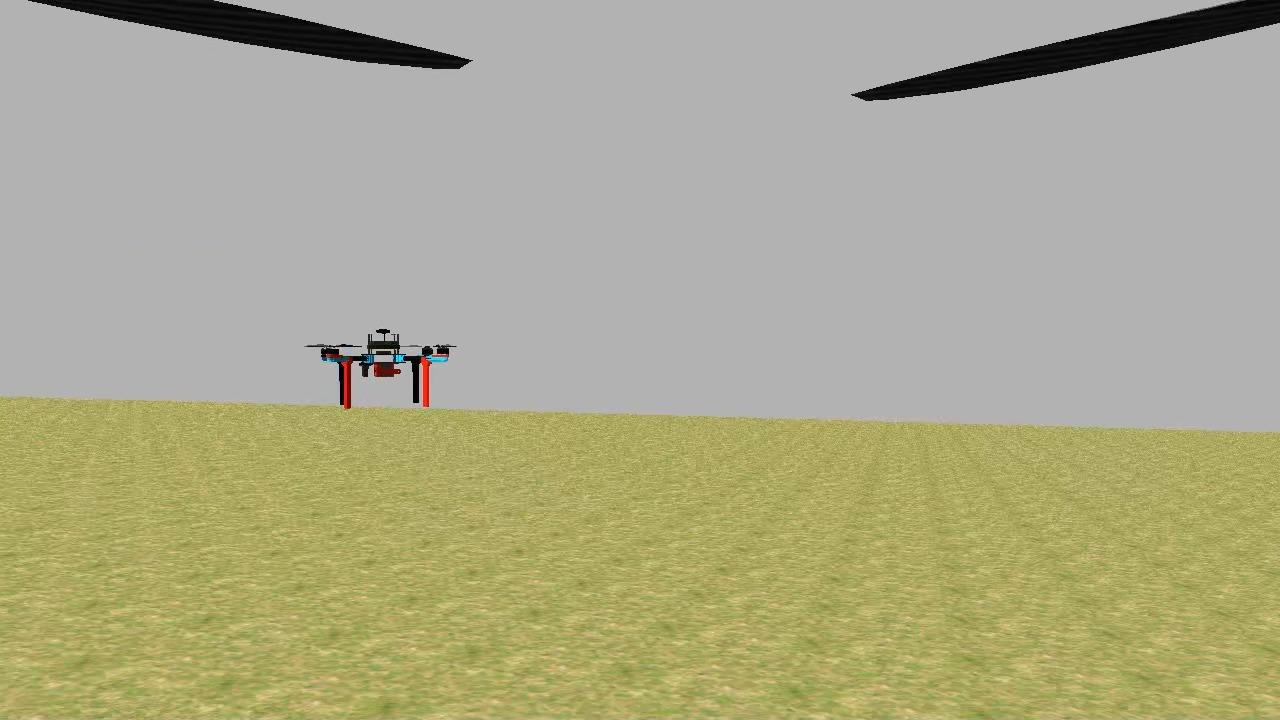UAV: (312, 320, 454, 411)
